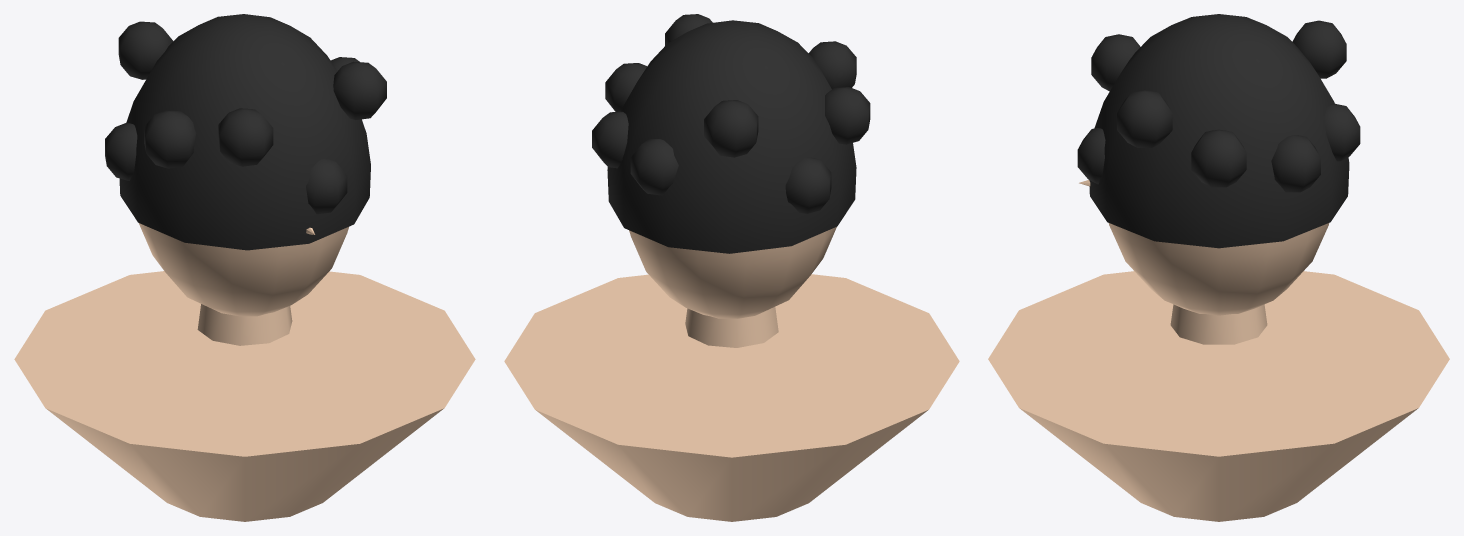
Rendered from raw_002.glb.
The picture shows the model from 3 angles, left to right: view 1: azimuth 30°, elevation 25°; view 2: azimuth 150°, elevation 25°; view 3: azimuth 270°, elevation 25°; orthographic projection.
Bounding box in the file's own units: 2 × 2.21 × 2.
